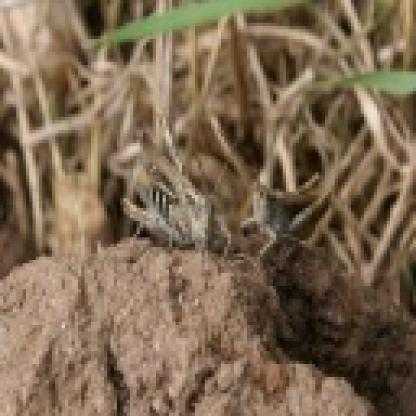grasshopper: (130, 124, 224, 244), (247, 183, 327, 253)
